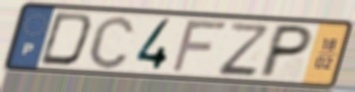4: (133, 16, 173, 73)
C: (86, 13, 137, 71)
D: (36, 11, 96, 69)
F: (168, 20, 231, 75)
P: (255, 22, 317, 80)
Z: (216, 20, 271, 77)
